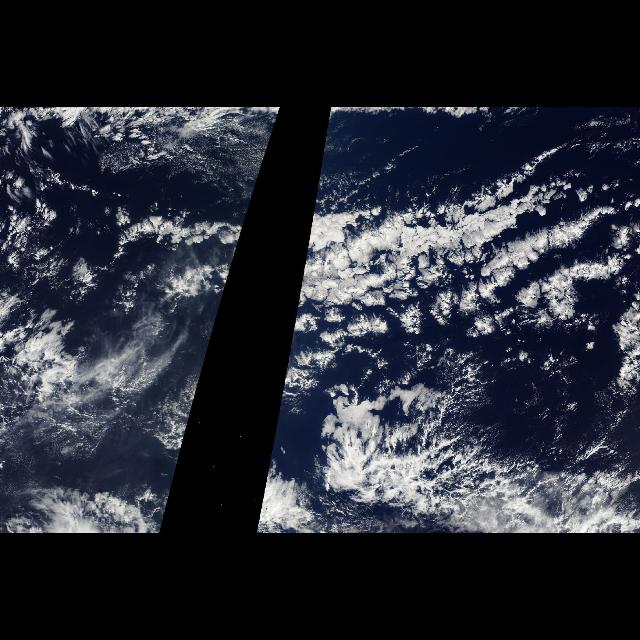Flower: (290, 190, 618, 340), (100, 190, 254, 340)
Sugar: (94, 120, 268, 190)
